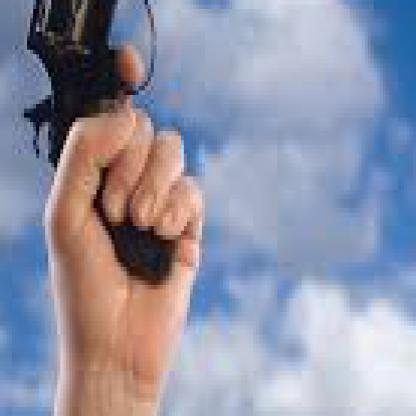gun: (0, 208, 413, 411)
